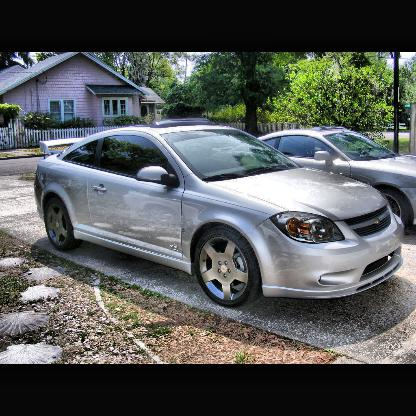Chevrolet Cobalt SS 2010: (34, 124, 404, 313)
